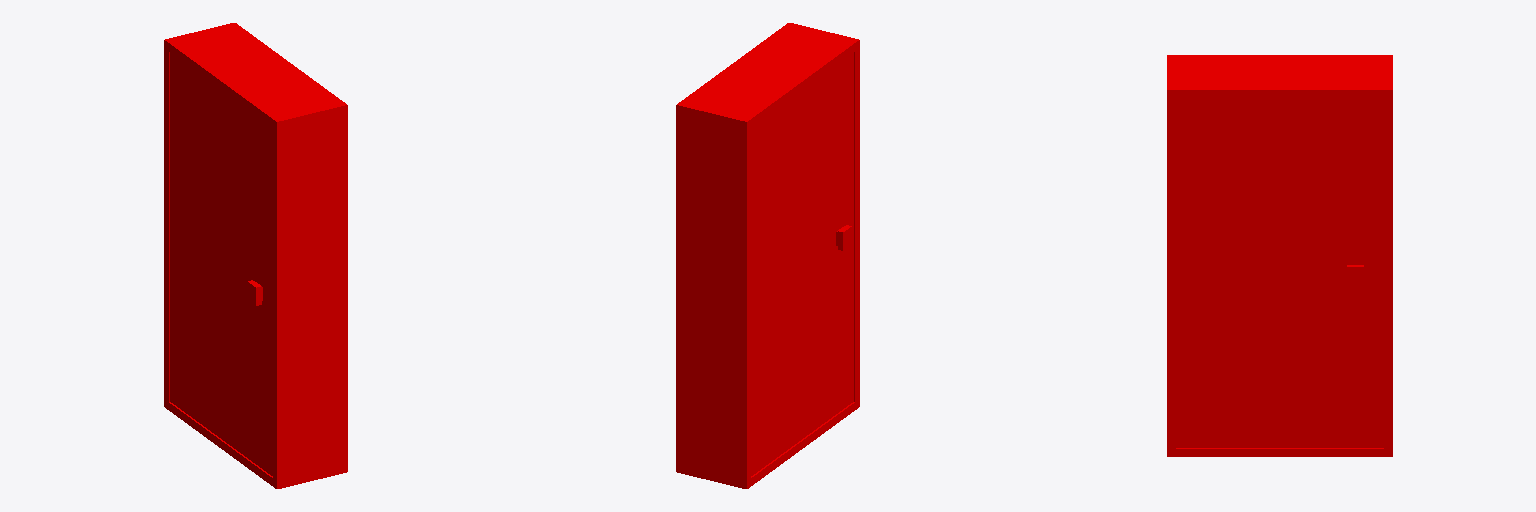
The model's file is door.obj.
The picture shows the model from 3 angles: view 1: azimuth 30°, elevation 25°; view 2: azimuth 150°, elevation 25°; view 3: azimuth 270°, elevation 25°; orthographic projection.
Visible parts, largest first — view 1: Cube.002; view 2: Cube.002; view 3: Cube.002.
Part boxes in pixels (x1,y1,x2,y2): Cube.002: (164,23,347,488); Cube.002: (676,23,859,488); Cube.002: (1167,55,1392,456).
Bounding box in the file's own units: 0.2054 × 0.8601 × 0.4779.